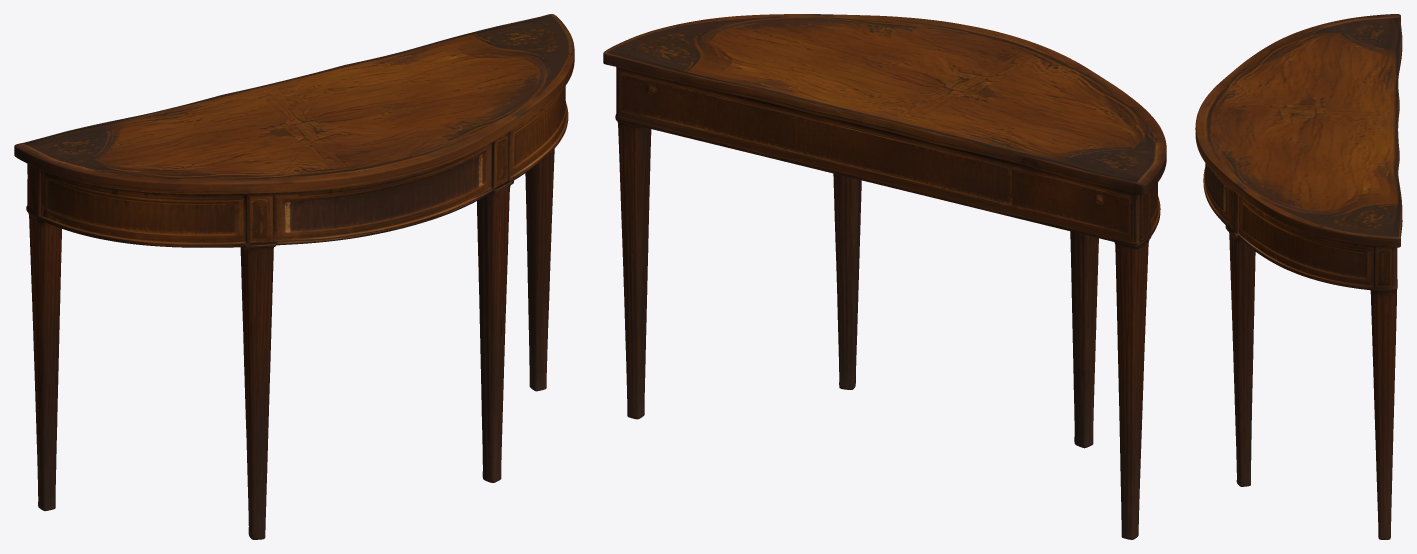
File: m-table-realistic.glb
3 views of the same model, side by side, from view 1: azimuth 30°, elevation 25°; view 2: azimuth 150°, elevation 25°; view 3: azimuth 270°, elevation 25° (orthographic). The views are drawn at different scales.
Visible parts, largest first — view 1: node_0; view 2: node_0; view 3: node_0.
Part boxes in pixels (x1,y1,x2,y2): node_0: (14, 14, 574, 539); node_0: (603, 14, 1166, 539); node_0: (1195, 14, 1402, 539).
Bounding box in the file's own units: 1.2 × 0.7694 × 0.4665.
1 material, 1 textured.
